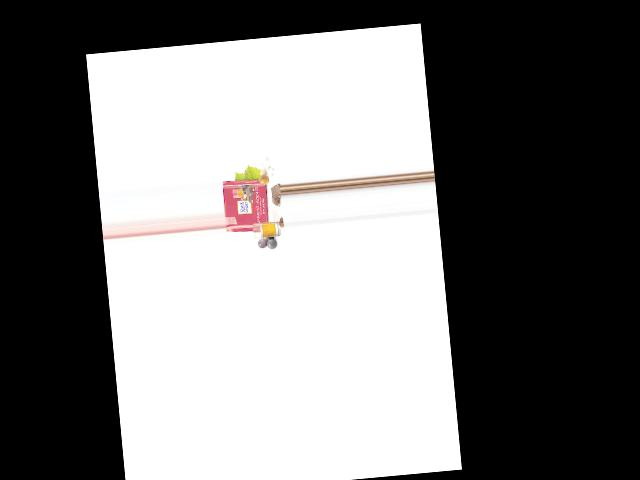chocolate: (222, 176, 270, 232)
